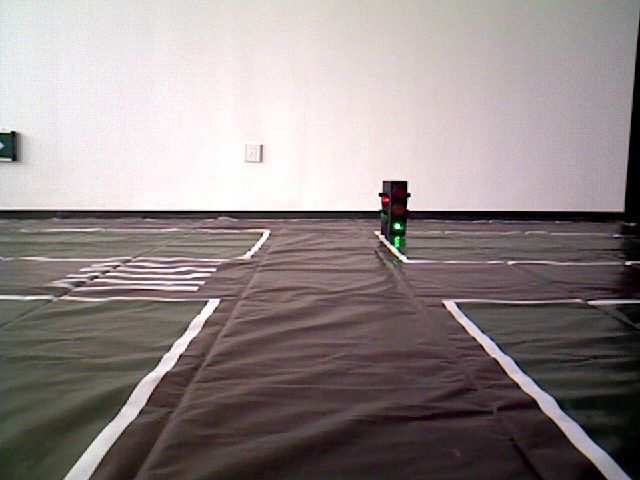green: (381, 178, 407, 235)
